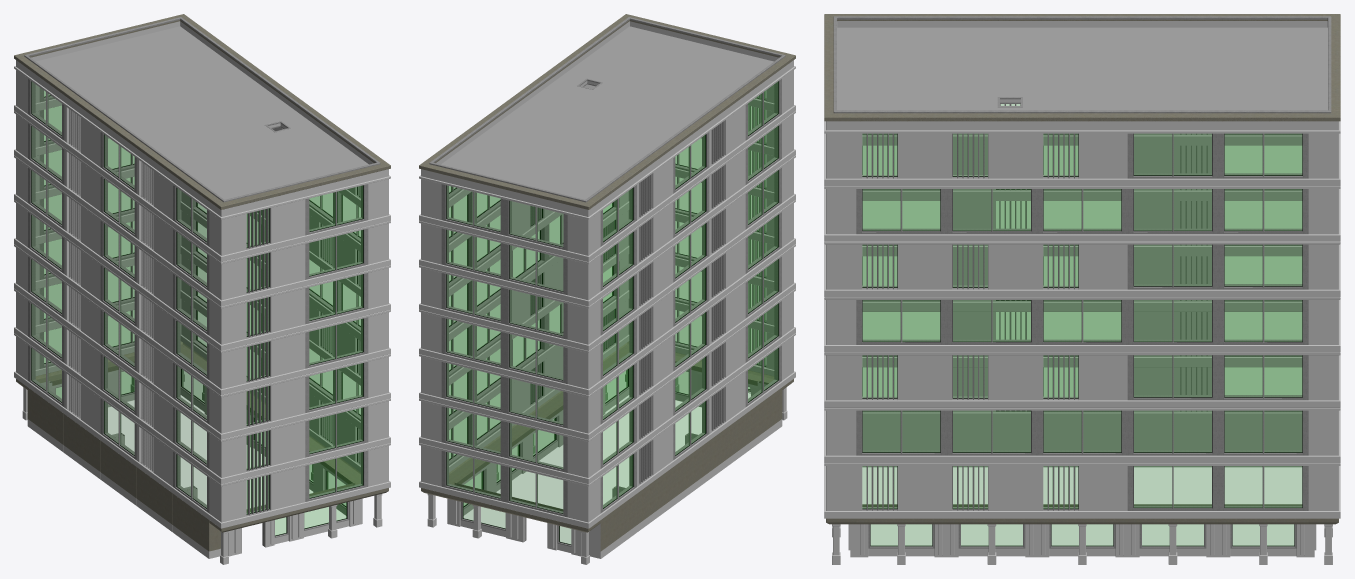
The model's file is SM_Building14.fbx.
3 views of the same model, side by side, from view 1: azimuth 30°, elevation 25°; view 2: azimuth 150°, elevation 25°; view 3: azimuth 270°, elevation 25° (orthographic). The views are drawn at different scales.
Visible parts, largest first — view 1: SM_Building14; view 2: SM_Building14; view 3: SM_Building14.
Boxes of the visible parts, x1,y1,x2,y2 form: SM_Building14: (14,14,390,564); SM_Building14: (419,14,795,564); SM_Building14: (824,14,1340,564).
Bounding box in the file's own units: 1623 × 3311 × 3423.
